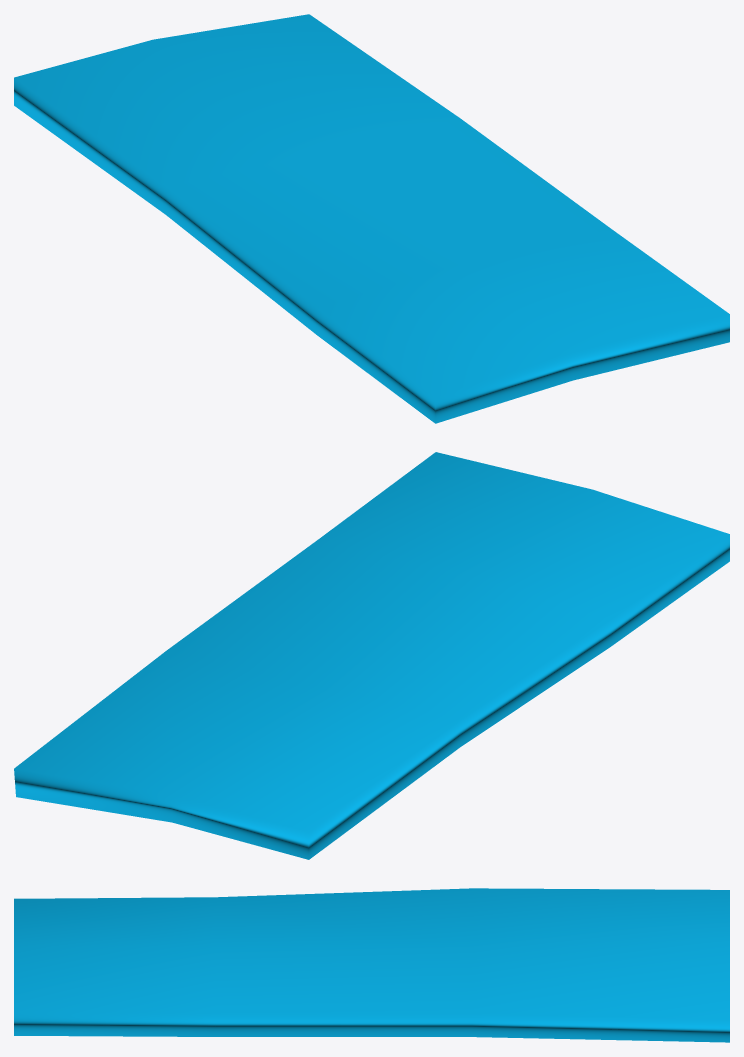
File: Table.fbx
3 views of the same model, one above another, from view 1: azimuth 30°, elevation 25°; view 2: azimuth 150°, elevation 25°; view 3: azimuth 270°, elevation 25° (orthographic). The views are drawn at different scales.
Parts seen in each view (by area): view 1: Table; view 2: Table; view 3: Table.
Boxes of the visible parts, x1,y1,x2,y2 form: Table: (14,14,729,423); Table: (14,452,729,859); Table: (14,888,729,1042).
Bounding box in the file's own units: 80.25 × 10.83 × 198.
